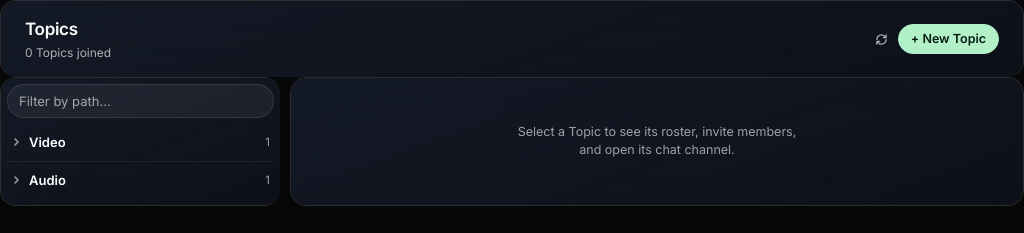
Test: Hoardbook Topics draft r1 — Discover search (one-tree form, QURATOR-144 W2) › clearing the query restores the full unfiltered tree
Expected: the button with class "root-header" showing "video 1" is shown, [7,124,274,161]
Type "animation" into the search field with placeholder "Filter by path…" at {"x": 140, "y": 101}, box [7,84,274,118]
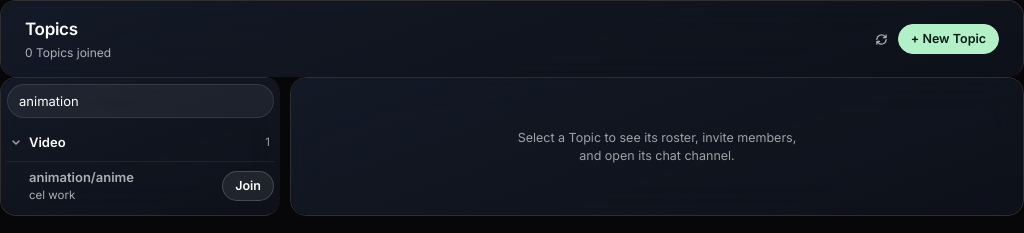
Now the number of buttons with class "tree-child" is 1, box [7,161,274,209]
Clear the search field named "Filter Topics by path" at {"x": 140, "y": 101}, box [7,84,274,118]
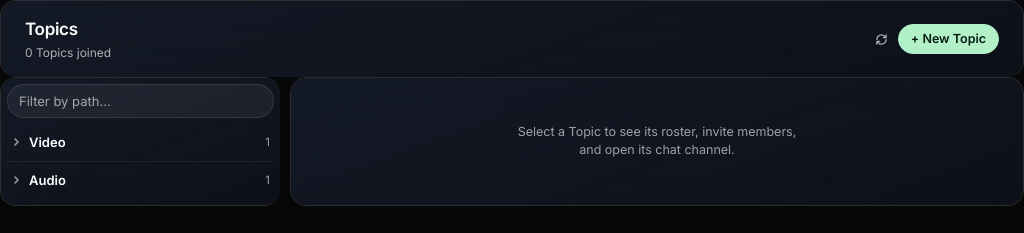
Type "lossless" into the search field with placeholder "Filter by path…" at {"x": 140, "y": 101}, box [7,84,274,118]
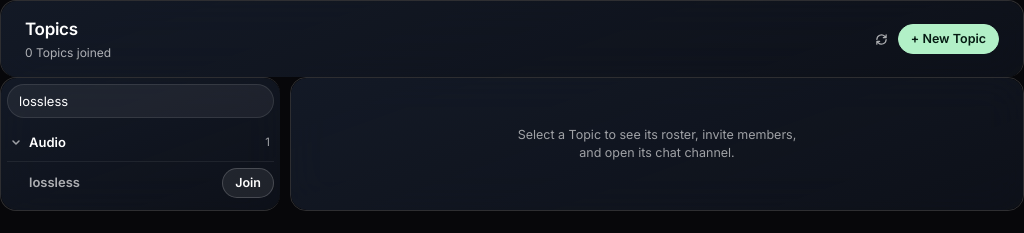
Now the number of buttons with class "tree-child" is 1, box [7,161,274,204]
